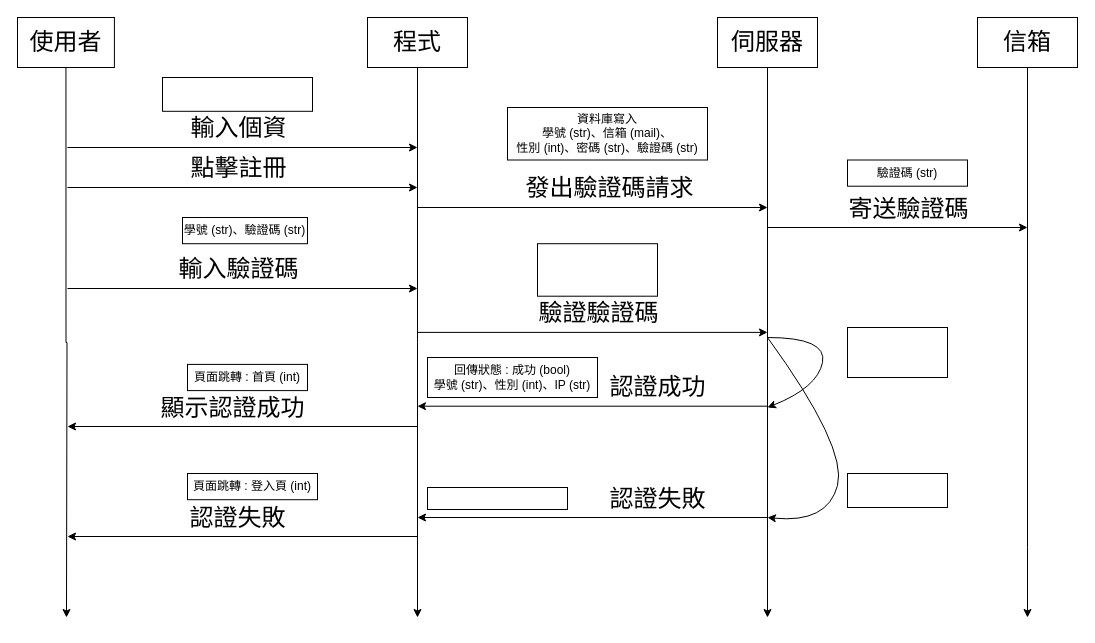
The diagram is 1095 pixels wide and 643 high, and some of its shapes have lost their labels. The shapes that lost their labels are listed below. From the top down, each one's box as (x1, y1, x2, y2) in pixels, then its label:
(162, 76, 312, 111): 學號 (str)、性別 (int)、 密碼 (str)、確認密碼 (str)
(536, 243, 658, 296): 資料庫查詢 學號、驗證碼 是否存在
(846, 326, 948, 378): 資料比對存在 資料庫寫入 已認證 (bool)
(426, 486, 568, 510): 回傳狀態 : 失敗 (bool)
(846, 472, 948, 508): 資料比對不存在
